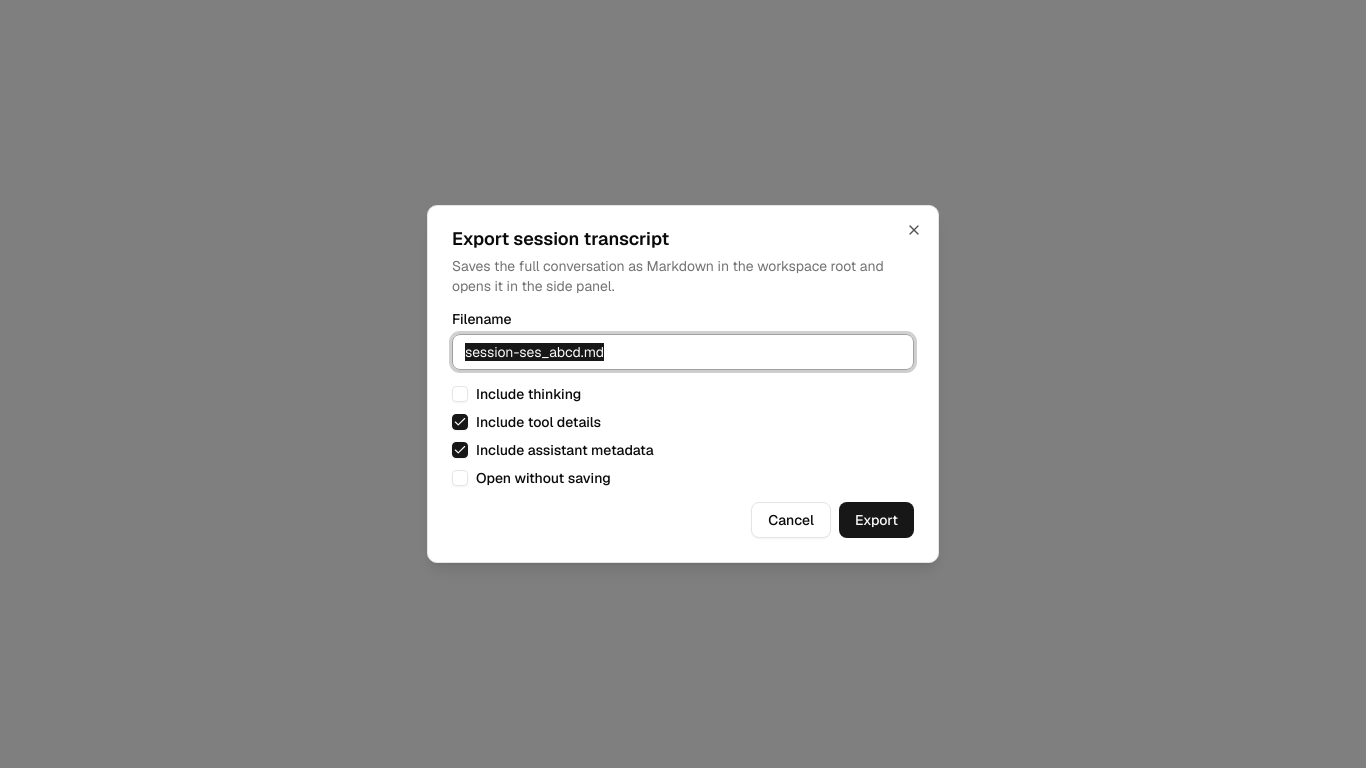
ExportSessionDialog › shows a read-only preview instead of saving when asked not to save
Click the checkbox named "Open without saving" next to "Open without saving": coordinates (460, 478) [452,470,468,486]
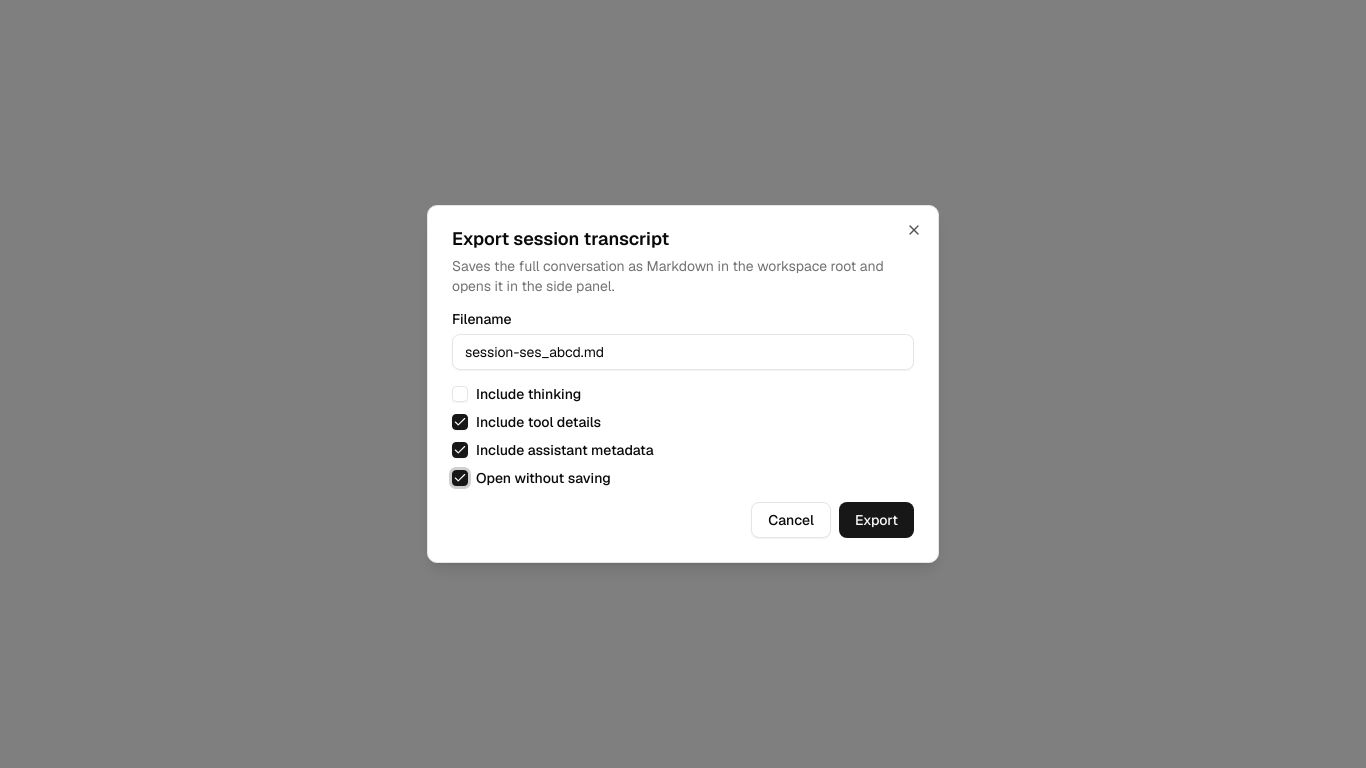
Click the button "Export": coordinates (876, 520) [839,502,914,538]
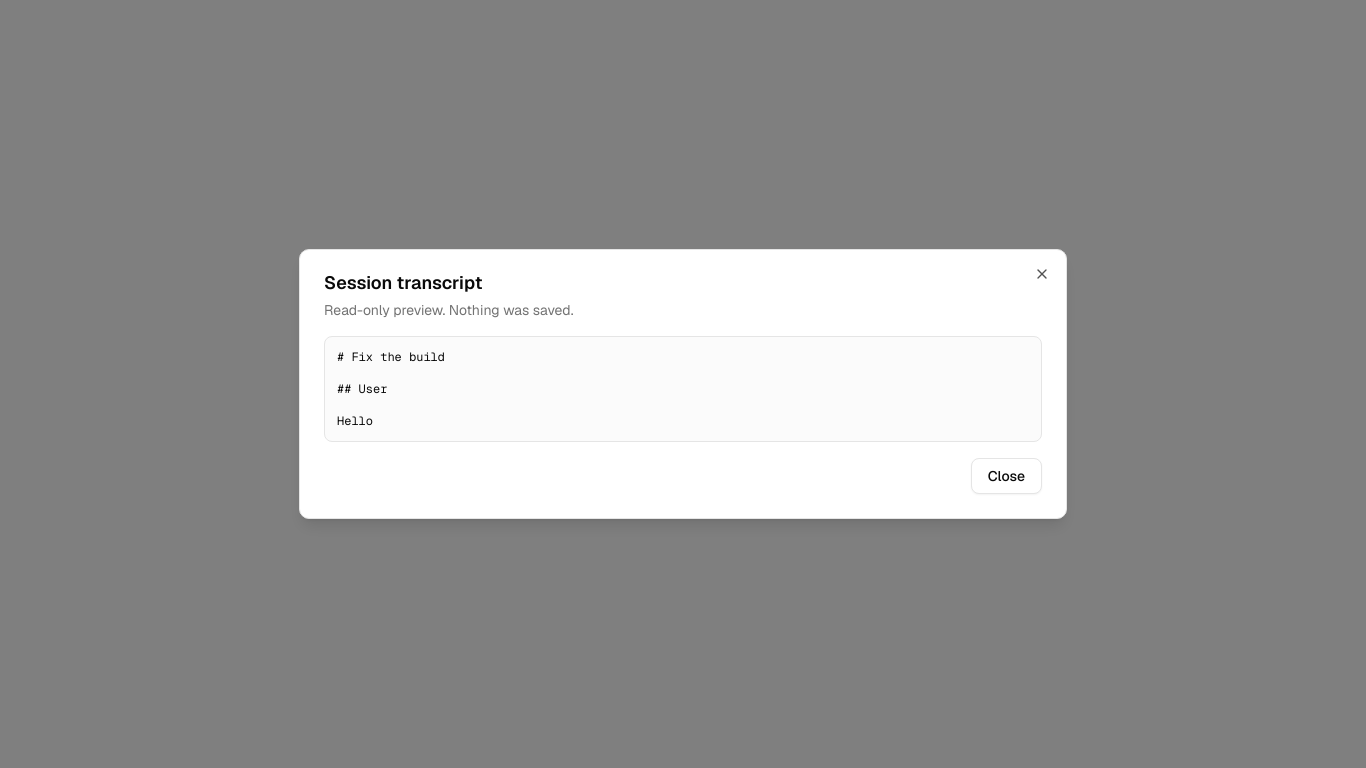
Now the text with test id "export-session-preview" shows "## User", box [337,349,445,429]
